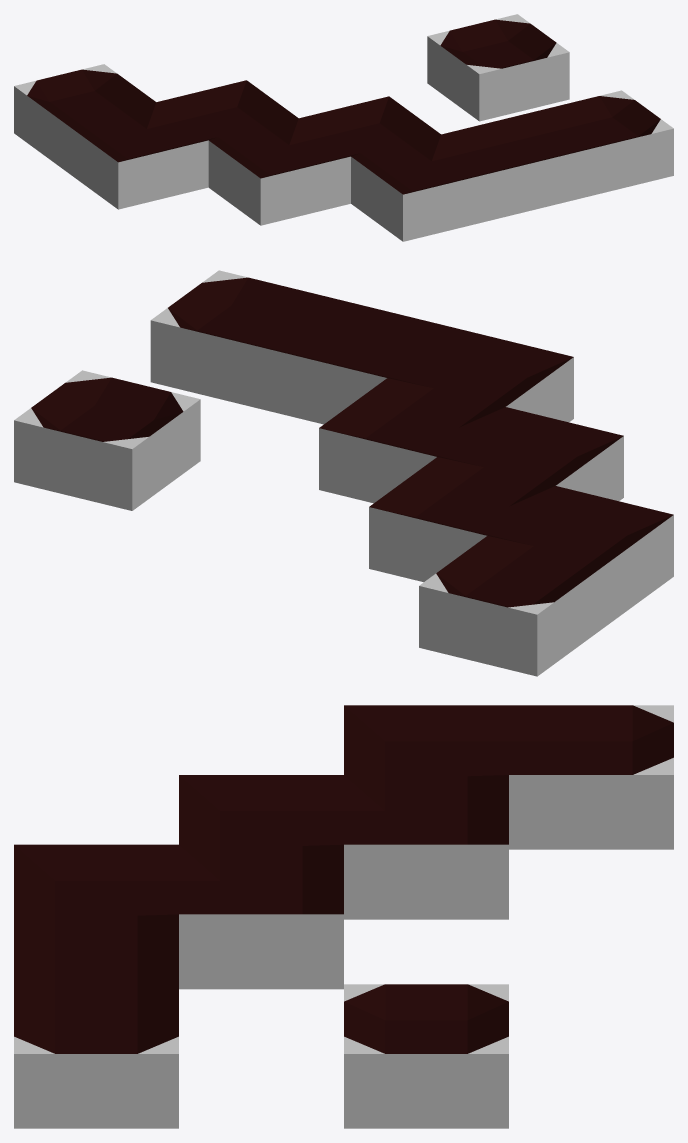
Rendered from 11s_path.obj.
3 renders of one model, top to bottom at view 1: azimuth 30°, elevation 25°; view 2: azimuth 150°, elevation 25°; view 3: azimuth 270°, elevation 25°, orthographic. The views are drawn at different scales.
Parts seen in each view (by area): view 1: hole.4.2_Cube.021, corner.1.1_corner.106, corner.0.2_corner.105, corner.2.0_corner.108, ending.4.0_ending.042, through.3.0_through.019, ending.0.3_ending.041, corner.1.2_corner.107, corner.2.1_corner.109; view 2: hole.4.2_Cube.021, ending.0.3_ending.041, ending.4.0_ending.042, through.3.0_through.019, corner.0.2_corner.105, corner.1.2_corner.107, corner.2.1_corner.109, corner.1.1_corner.106, corner.2.0_corner.108; view 3: ending.0.3_ending.041, hole.4.2_Cube.021, corner.2.1_corner.109, corner.1.2_corner.107, ending.4.0_ending.042, corner.2.0_corner.108, corner.0.2_corner.105, corner.1.1_corner.106, through.3.0_through.019.
Part boxes in pixels (x1=…): hole.4.2_Cube.021: x1=427, y1=14, x2=569, y2=121; corner.1.1_corner.106: x1=208, y1=118, x2=350, y2=225; corner.0.2_corner.105: x1=66, y1=102, x2=208, y2=209; corner.2.0_corner.108: x1=351, y1=135, x2=493, y2=241; ending.4.0_ending.042: x1=531, y1=90, x2=673, y2=197; through.3.0_through.019: x1=441, y1=112, x2=583, y2=219; ending.0.3_ending.041: x1=14, y1=64, x2=155, y2=170; corner.1.2_corner.107: x1=156, y1=80, x2=298, y2=146; corner.2.1_corner.109: x1=299, y1=96, x2=440, y2=162; hole.4.2_Cube.021: x1=14, y1=370, x2=200, y2=510; ending.0.3_ending.041: x1=419, y1=536, x2=605, y2=676; ending.4.0_ending.042: x1=150, y1=270, x2=336, y2=410; through.3.0_through.019: x1=269, y1=299, x2=455, y2=424; corner.0.2_corner.105: x1=488, y1=486, x2=673, y2=626; corner.1.2_corner.107: x1=369, y1=457, x2=555, y2=582; corner.2.1_corner.109: x1=319, y1=378, x2=505, y2=503; corner.1.1_corner.106: x1=438, y1=407, x2=623, y2=501; corner.2.0_corner.108: x1=388, y1=328, x2=573, y2=422; ending.0.3_ending.041: x1=509, y1=705, x2=673, y2=849; hole.4.2_Cube.021: x1=344, y1=984, x2=508, y2=1128; corner.2.1_corner.109: x1=179, y1=845, x2=343, y2=989; corner.1.2_corner.107: x1=344, y1=775, x2=508, y2=919; ending.4.0_ending.042: x1=14, y1=984, x2=178, y2=1128; corner.2.0_corner.108: x1=14, y1=844, x2=178, y2=933; corner.0.2_corner.105: x1=344, y1=705, x2=508, y2=793; corner.1.1_corner.106: x1=179, y1=775, x2=343, y2=863; through.3.0_through.019: x1=14, y1=914, x2=178, y2=1002.
Size of the model in its own units: 10 by 1 by 8.
